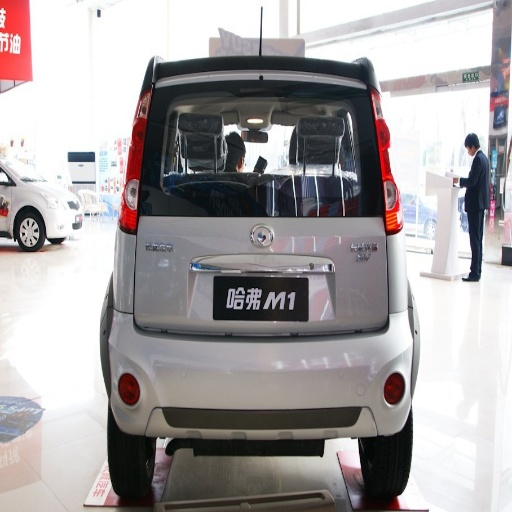back_bumper: (100, 280, 411, 499)
tailgate: (142, 205, 390, 340), (137, 175, 233, 233)
trunk: (123, 194, 219, 337), (314, 216, 402, 292)
